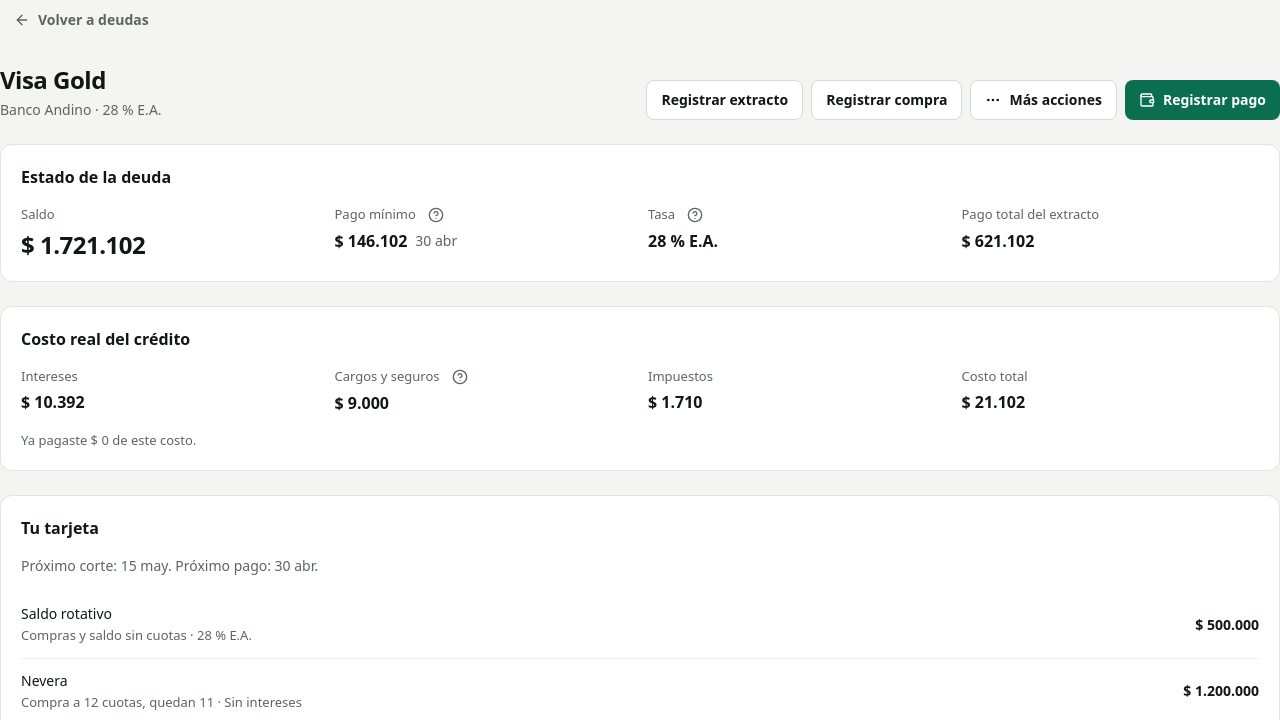
Test case: DebtDetailContainer card statements › writes the statement as an adjustment with the difference in the preview, and no expense
The image size is (1280, 720).
Expected: the text "$ 1.721.102" is shown, [21,228,145,260]
Step 1. Click the button "Registrar extracto" → [725, 100], box [646,80,803,120]
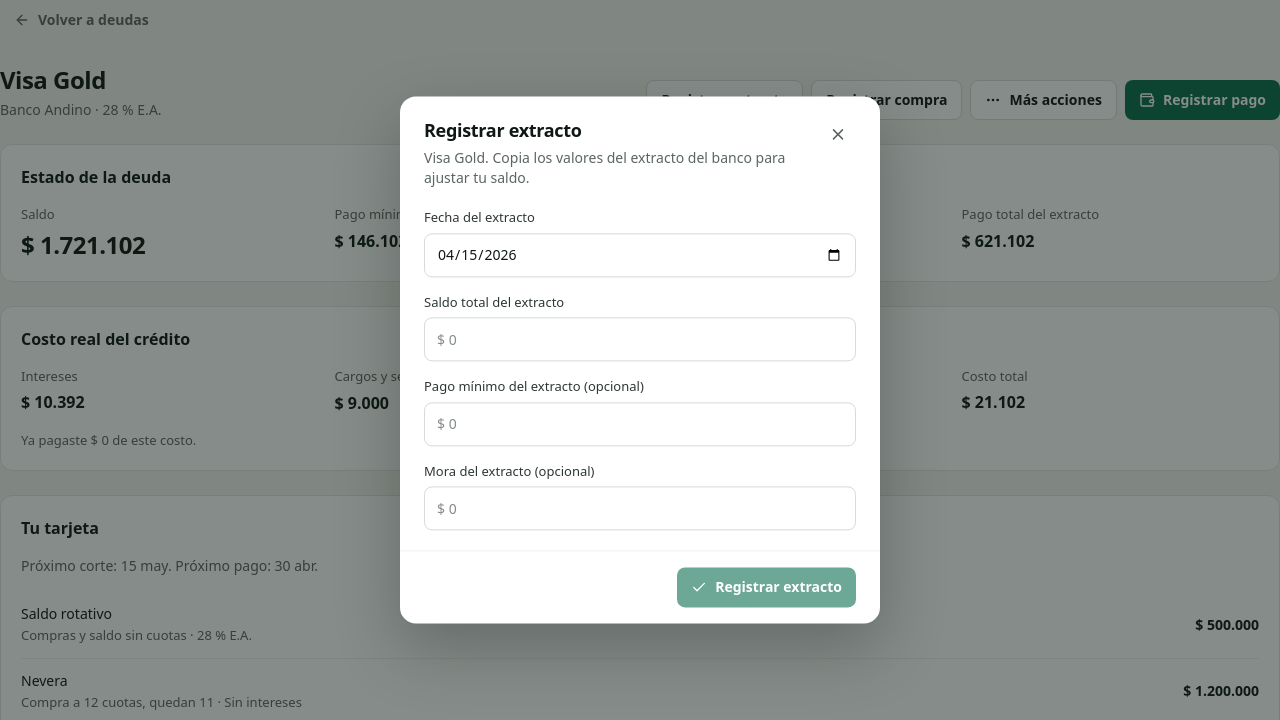
Step 2. Type "1721452" into the number field labelled "Saldo total del extracto" → [640, 340], box [424,318,856,362]
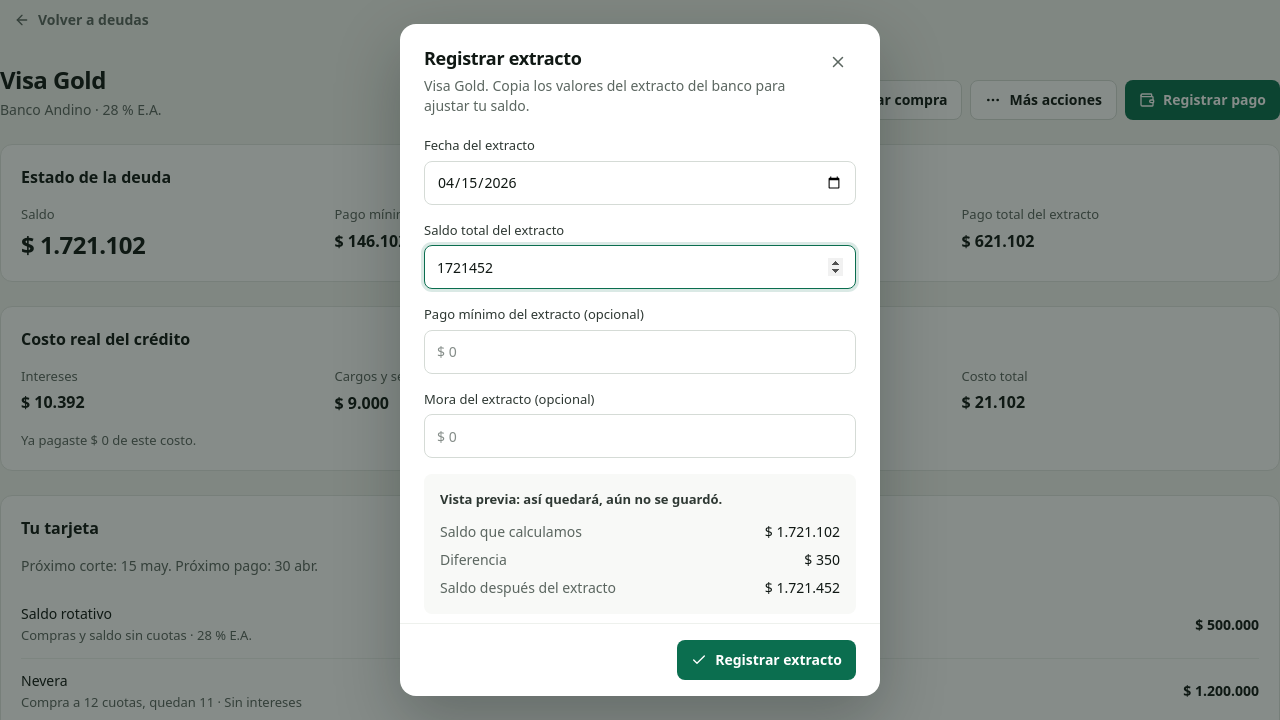
Step 3. Type "150000" into the number field labelled "Pago mínimo del extracto (opcional)" → [640, 352], box [424,330,856,374]
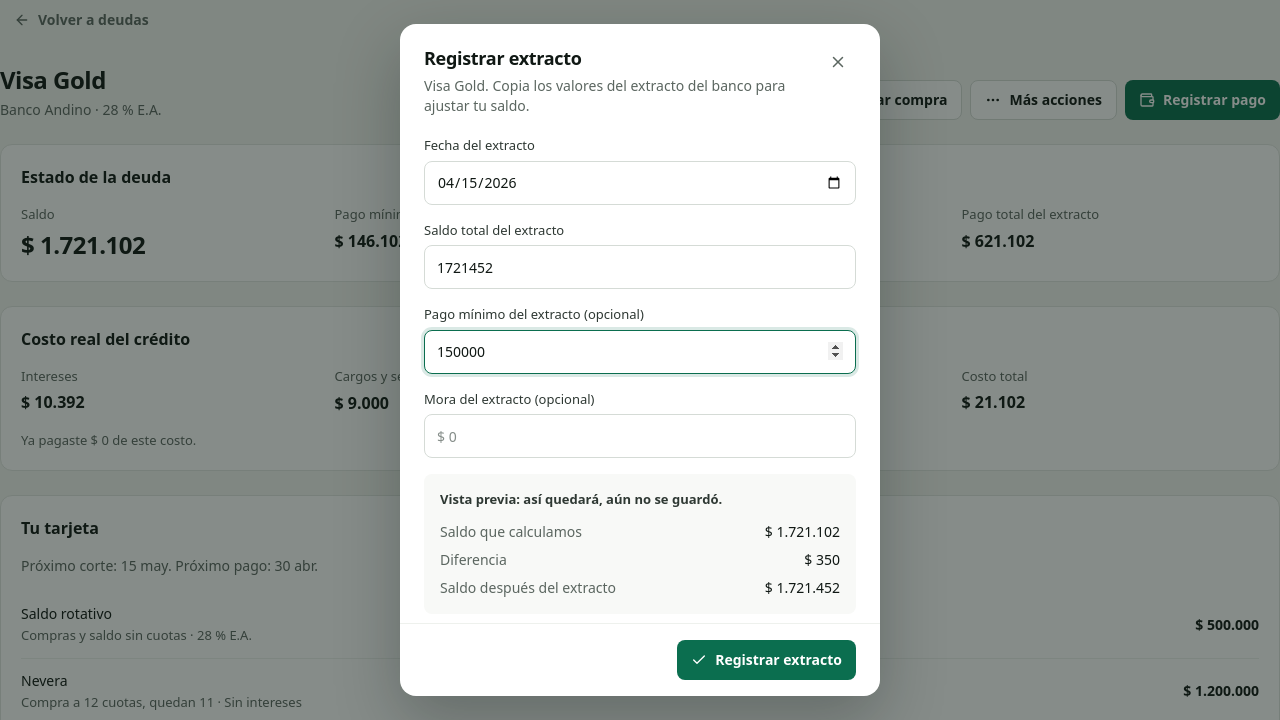
Now the text "$ 1.721.102" is shown, box [765,522,840,542]
Now the text "$ 350" is shown, box [804,550,840,570]
Step 4. Click the button "Registrar extracto" → [767, 660], box [677,640,856,680]
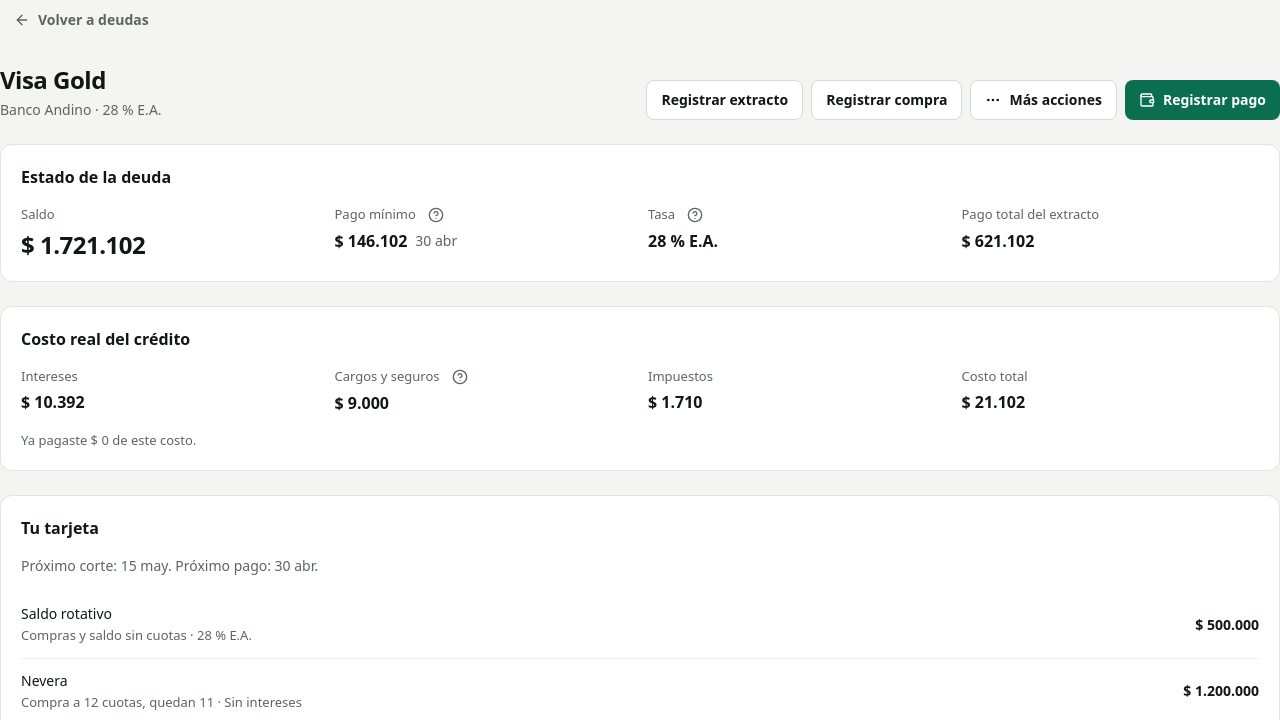
Now the dialog is gone
